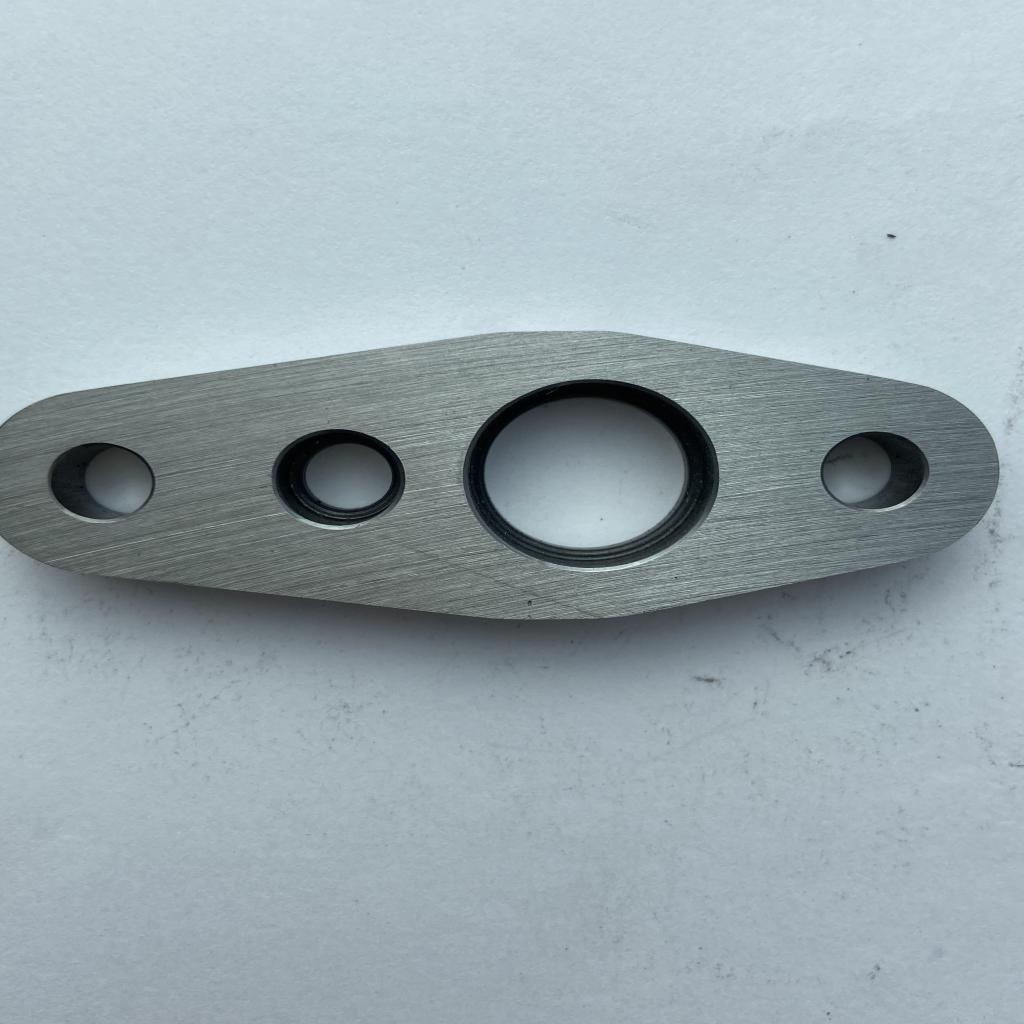chap: (523, 596, 537, 610)
